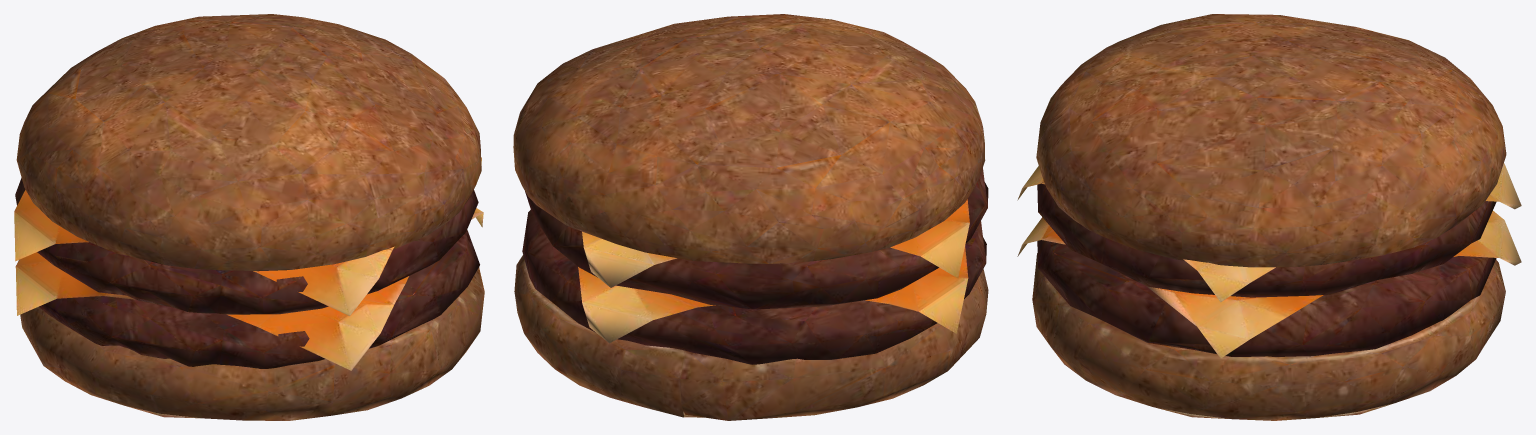
The model's file is burger_lowpoly.glb.
3 views of the same model, side by side, from view 1: azimuth 30°, elevation 25°; view 2: azimuth 150°, elevation 25°; view 3: azimuth 270°, elevation 25° (orthographic).
Visible parts, largest first — view 1: Burger low-poly Game-Ready; view 2: Burger low-poly Game-Ready; view 3: Burger low-poly Game-Ready.
Boxes of the visible parts, x1,y1,x2,y2 form: Burger low-poly Game-Ready: (14, 14, 484, 420); Burger low-poly Game-Ready: (513, 14, 988, 420); Burger low-poly Game-Ready: (1017, 14, 1521, 420).
Bounding box in the file's own units: 0.1093 × 0.0658 × 0.1106.
Materials: 1 (1 with a texture image).
